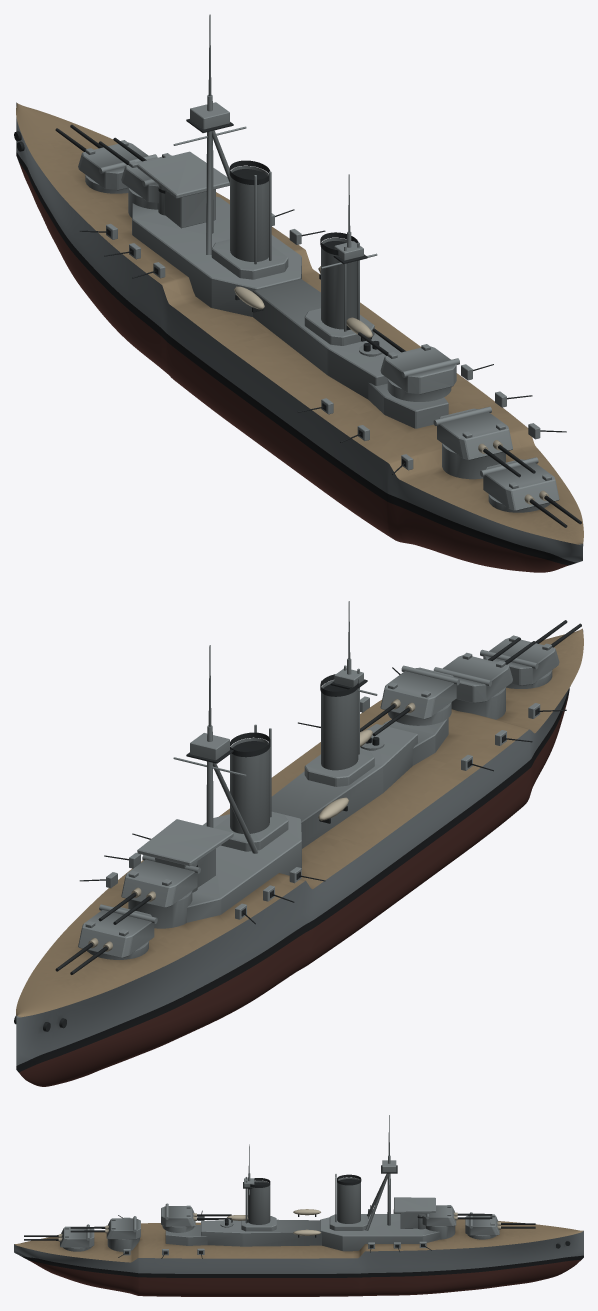
Rendered from hms-orion.glb.
3 renders of one model, top to bottom at view 1: azimuth 30°, elevation 25°; view 2: azimuth 150°, elevation 25°; view 3: azimuth 270°, elevation 25°, orthographic. The views are drawn at different scales.
Parts seen in each view (by area): view 1: hms-orion; view 2: hms-orion; view 3: hms-orion.
Boxes of the visible parts, x1,y1,x2,y2 form: hms-orion: [14, 14, 583, 572]; hms-orion: [14, 601, 583, 1086]; hms-orion: [14, 1115, 583, 1296].
Size of the model in its own units: 35.33 by 57.7 by 177.
